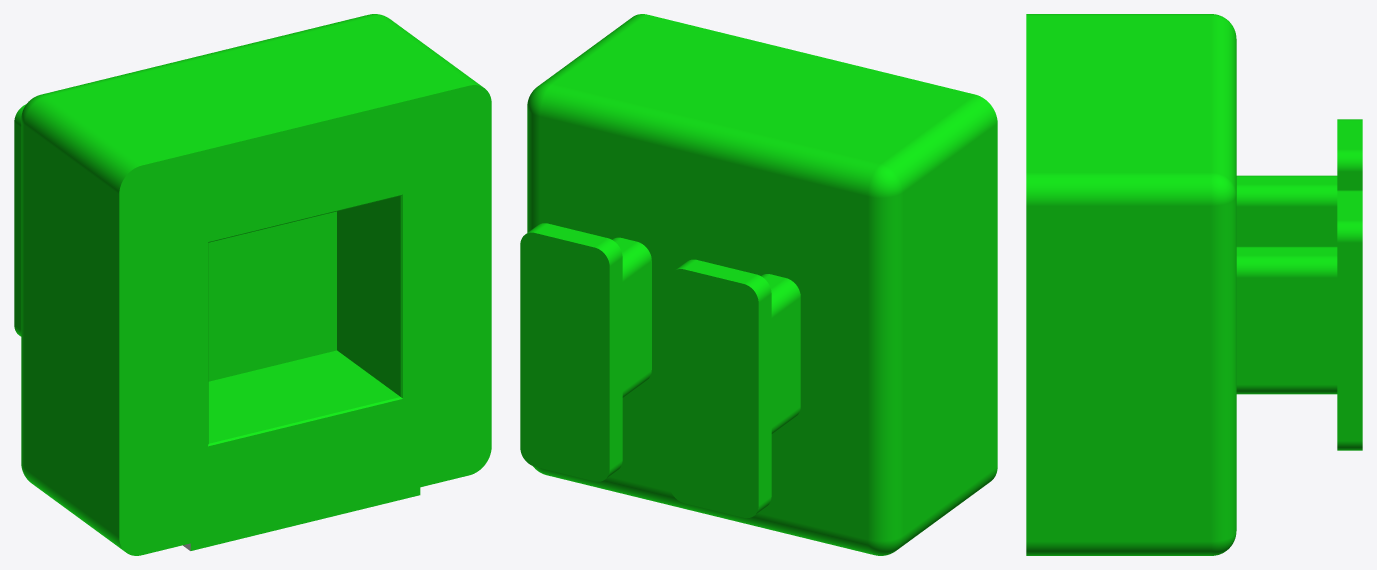
The model's file is holi_bottom_08.obj.
The picture shows the model from 3 angles, left to right: view 1: azimuth 30°, elevation 25°; view 2: azimuth 150°, elevation 25°; view 3: azimuth 270°, elevation 25°; orthographic projection. The views are drawn at different scales.
Visible parts, largest first — view 1: mesh26, mesh19, mesh20, mesh34, mesh30, mesh33, mesh22, mesh67, mesh23, mesh24, mesh14, mesh17 (+2 smaller); view 2: mesh36, mesh19, mesh20, mesh55, mesh65, mesh24, mesh23, mesh22, mesh15, mesh39, mesh47, mesh67 (+9 smaller); view 3: mesh13, mesh20, mesh45, mesh16, mesh17, mesh54, mesh37, mesh24, mesh11, mesh42, mesh52, mesh50 (+9 smaller).
Boxes of the visible parts, bbox=[...] form: mesh26: bbox=[119, 85, 491, 555]; mesh19: bbox=[24, 125, 119, 536]; mesh20: bbox=[47, 16, 468, 165]; mesh34: bbox=[208, 211, 336, 381]; mesh30: bbox=[337, 196, 400, 396]; mesh33: bbox=[208, 350, 399, 443]; mesh22: bbox=[24, 96, 140, 193]; mesh67: bbox=[14, 122, 21, 329]; mesh23: bbox=[21, 121, 24, 467]; mesh24: bbox=[42, 14, 374, 96]; mesh14: bbox=[24, 468, 124, 551]; mesh17: bbox=[375, 15, 482, 86]; mesh36: bbox=[540, 116, 867, 539]; mesh19: bbox=[903, 123, 997, 535]; mesh20: bbox=[553, 14, 974, 163]; mesh55: bbox=[520, 232, 609, 481]; mesh65: bbox=[669, 269, 758, 517]; mesh24: bbox=[540, 84, 880, 196]; mesh23: bbox=[868, 193, 902, 540]; mesh22: bbox=[881, 94, 997, 192]; mesh15: bbox=[541, 468, 873, 554]; mesh39: bbox=[771, 297, 800, 427]; mesh47: bbox=[622, 261, 651, 390]; mesh67: bbox=[758, 294, 771, 505]; mesh13: bbox=[1026, 206, 1211, 541]; mesh20: bbox=[1026, 16, 1211, 172]; mesh45: bbox=[1236, 278, 1337, 384]; mesh16: bbox=[1211, 196, 1236, 541]; mesh17: bbox=[1026, 172, 1211, 206]; mesh54: bbox=[1337, 242, 1362, 440]; mesh37: bbox=[1236, 206, 1337, 246]; mesh24: bbox=[1211, 16, 1236, 194]; mesh11: bbox=[1026, 541, 1211, 555]; mesh42: bbox=[1236, 184, 1337, 206]; mesh52: bbox=[1236, 255, 1337, 277]; mesh50: bbox=[1236, 384, 1337, 394].
Size of the model in its own units: 0.05 by 0.051 by 0.04.
